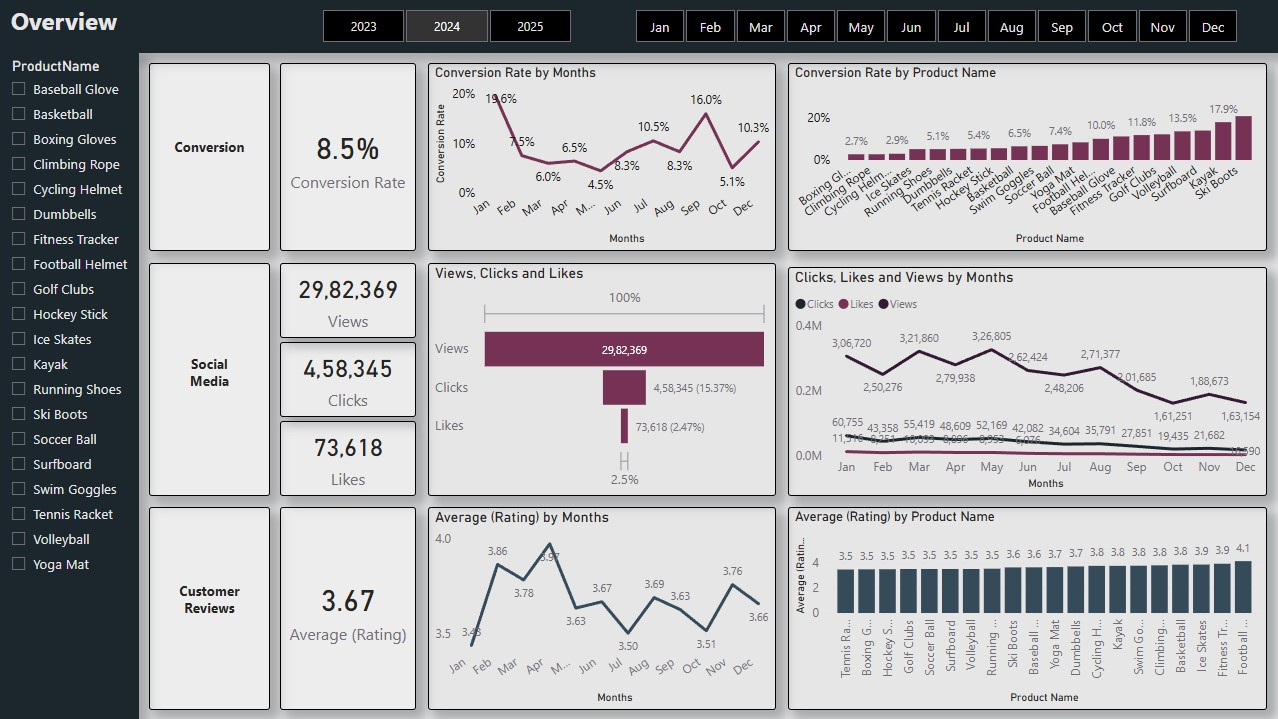

Layout of this report page (visuals, bound fields, positions):
{"tool":"powerbi","page":{"name":"Overview","canvas":[1280,720],"ordinal":0},"visuals":[{"type":"textbox","box":[0,0,1280,54.5],"z":0},{"type":"slicer","fields":{"Values":["dim_products.ProductName"]},"box":[0,54,140,666],"z":1000},{"type":"textbox","box":[150,64,121,188],"z":2000},{"type":"textbox","box":[150,264,121,233],"z":3000},{"type":"textbox","box":[150,508,121,203],"z":4000},{"type":"card","fields":{"Values":["_Calculations.Conversion Rate"]},"box":[281,64,136,188],"z":5000},{"type":"card","fields":{"Values":["_Calculations.Views"]},"box":[281,264,136,75],"z":6000},{"type":"card","fields":{"Values":["_Calculations.Clicks"]},"box":[281,343,136,75],"z":7000},{"type":"card","fields":{"Values":["_Calculations.Likes"]},"box":[281,422,136,75],"z":8000},{"type":"card","fields":{"Values":["_Calculations.Average (Rating)"]},"box":[281,508,136,203],"z":9000},{"type":"slicer","fields":{"Values":["Calendar.Year"]},"box":[298,4,298,46],"z":10000},{"type":"slicer","fields":{"Values":["Calendar.MonthNameShort"]},"box":[611,4,651,46],"z":11000},{"type":"lineChart","fields":{"Y":["_Calculations.Conversion Rate"],"Category":["Calendar.MonthNameShort"]},"box":[429,64,348,188],"z":12000},{"type":"columnChart","fields":{"Category":["dim_products.ProductName"],"Y":["_Calculations.Conversion Rate"]},"box":[789,64,479,188],"z":13000},{"type":"lineChart","fields":{"Category":["Calendar.MonthNameShort"],"Y":["_Calculations.Clicks","_Calculations.Likes","_Calculations.Views"]},"box":[789,268,479,229],"z":14000},{"type":"funnel","fields":{"Y":["_Calculations.Views","_Calculations.Clicks","_Calculations.Likes"]},"box":[429,264,348,233],"z":15000},{"type":"lineChart","fields":{"Category":["Calendar.MonthNameShort"],"Y":["_Calculations.Average (Rating)"]},"box":[429,508,348,203],"z":16000},{"type":"columnChart","fields":{"Category":["dim_products.ProductName"],"Y":["_Calculations.Average (Rating)"]},"box":[789,508,479,203],"z":17000}]}

Visuals, with their boxes in screenshot pixels (x1, y1, x2, y2), scaled from the page's 1280x720 canvas onto the 1278x719 screenshot:
textbox: (0, 0, 1277, 54)
slicer - dim_products.ProductName: (0, 54, 140, 718)
textbox: (150, 64, 271, 252)
textbox: (150, 264, 271, 496)
textbox: (150, 507, 271, 710)
card - _Calculations.Conversion Rate: (281, 64, 416, 252)
card - _Calculations.Views: (281, 264, 416, 339)
card - _Calculations.Clicks: (281, 343, 416, 417)
card - _Calculations.Likes: (281, 421, 416, 496)
card - _Calculations.Average (Rating): (281, 507, 416, 710)
slicer - Calendar.Year: (298, 4, 595, 50)
slicer - Calendar.MonthNameShort: (610, 4, 1260, 50)
lineChart - _Calculations.Conversion Rate x Calendar.MonthNameShort: (428, 64, 776, 252)
columnChart - dim_products.ProductName x _Calculations.Conversion Rate: (788, 64, 1266, 252)
lineChart - Calendar.MonthNameShort x _Calculations.Clicks: (788, 268, 1266, 496)
funnel - _Calculations.Views x _Calculations.Clicks: (428, 264, 776, 496)
lineChart - Calendar.MonthNameShort x _Calculations.Average (Rating): (428, 507, 776, 710)
columnChart - dim_products.ProductName x _Calculations.Average (Rating): (788, 507, 1266, 710)
